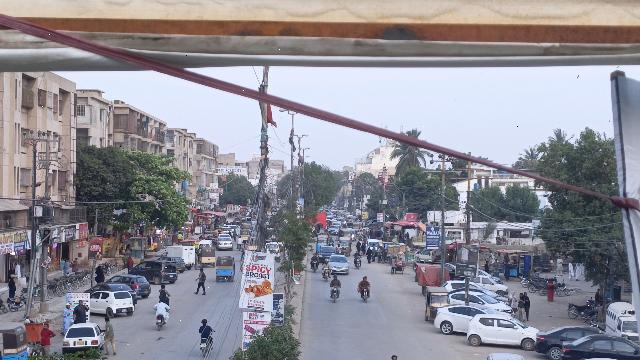Bike: (197, 334, 216, 357), (329, 284, 344, 303), (358, 286, 373, 303), (152, 316, 168, 330), (321, 268, 332, 281), (310, 259, 320, 273), (353, 257, 363, 269)
Car: (465, 312, 539, 350), (534, 322, 598, 360), (559, 333, 640, 360), (434, 303, 496, 336), (62, 321, 106, 355), (129, 259, 180, 285), (89, 290, 136, 318), (111, 272, 151, 299), (326, 254, 351, 276)
Cart: (393, 251, 408, 274)
Person: (101, 316, 118, 357), (39, 321, 54, 356), (193, 266, 208, 298), (72, 298, 90, 323), (60, 300, 72, 330), (506, 288, 518, 315), (515, 290, 526, 319), (522, 290, 531, 320), (199, 317, 213, 336), (158, 283, 171, 302), (329, 273, 342, 288), (95, 264, 104, 283), (359, 274, 371, 288), (323, 259, 332, 270), (311, 252, 319, 261)
Rickshaw: (423, 284, 450, 323), (214, 254, 237, 285), (198, 245, 215, 267)
Suzuki: (599, 299, 640, 343)
